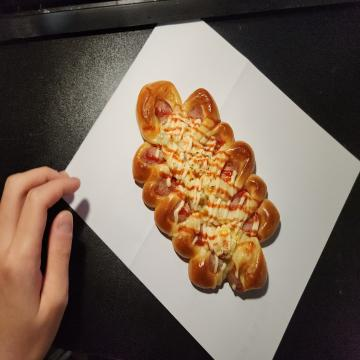pizza_bread: (134, 80, 276, 302)
